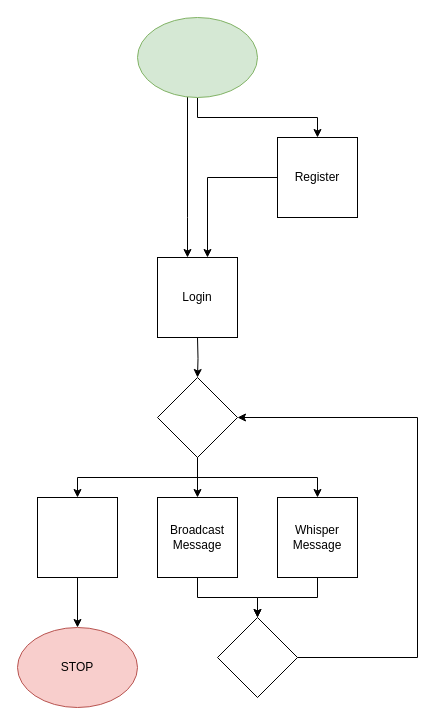
This 443x725 diagram has some shape labels left out. The shapes that lost their labels are listed below. From the top down, each one's box as (x1, y1, x2, y2) in pixels, then its label:
(136, 16, 258, 98): START
(36, 496, 118, 578): Disconnect
